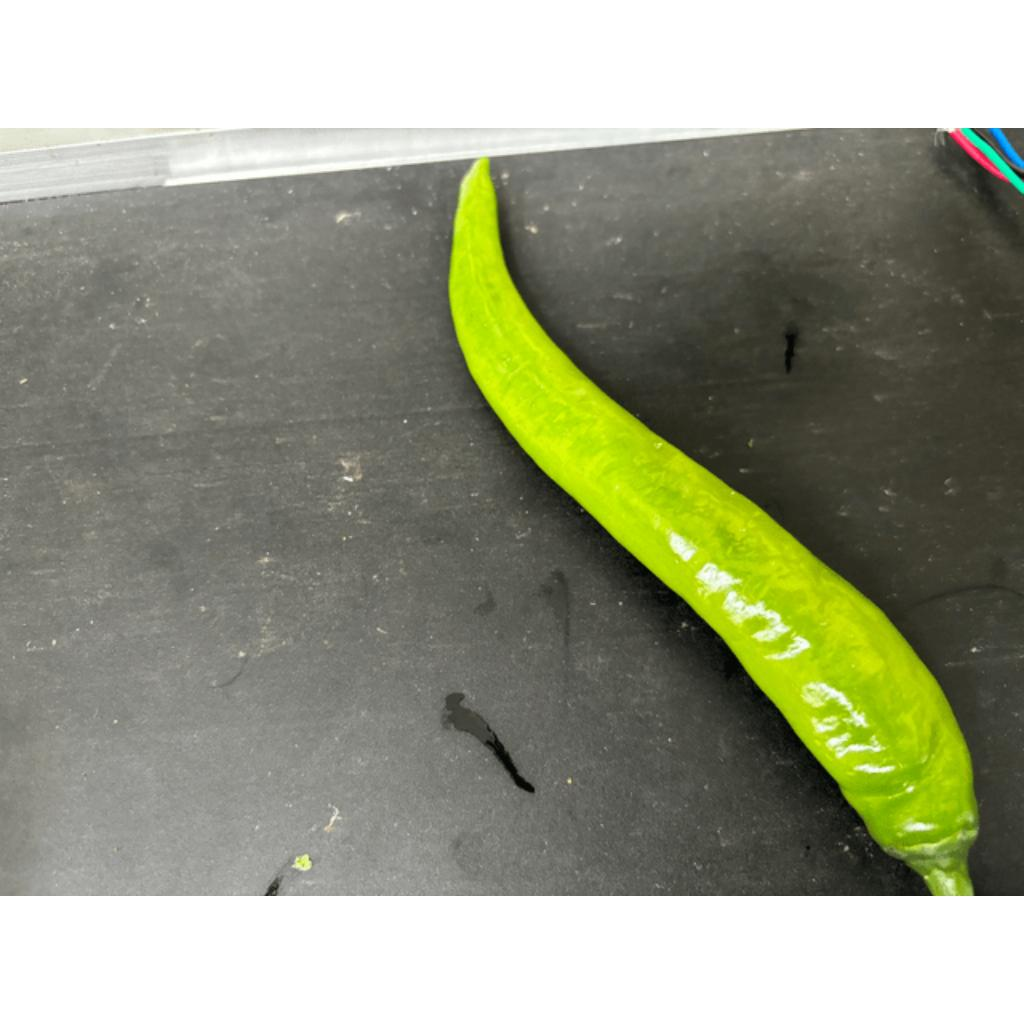chili: (444, 152, 981, 881)
